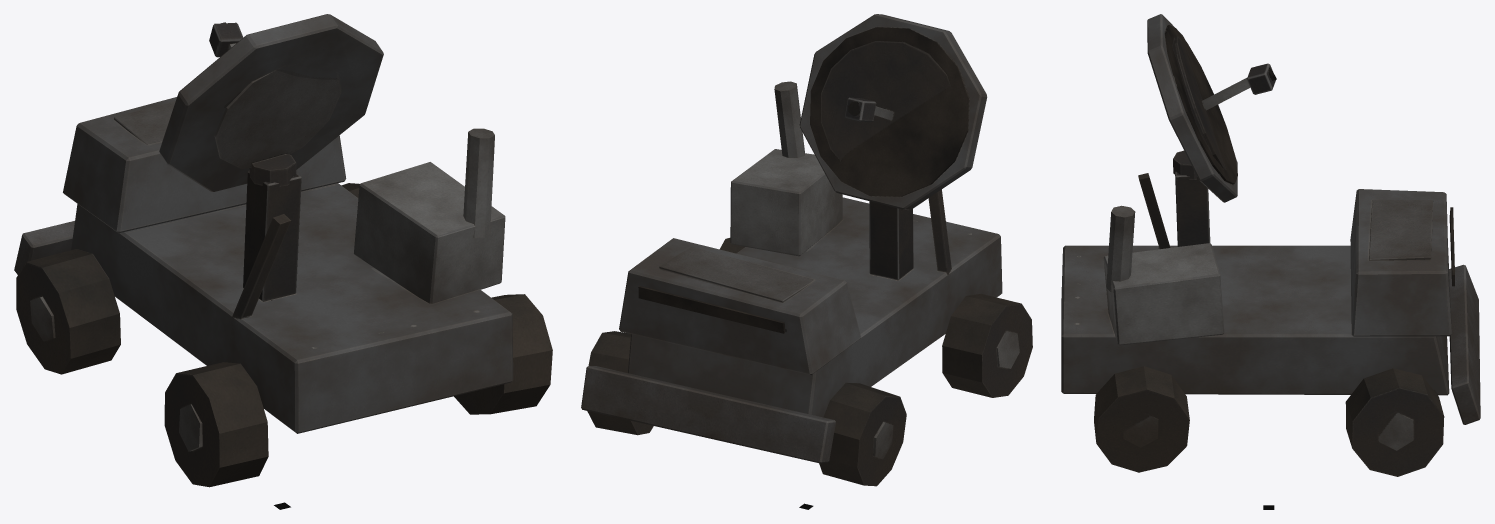
Rendered from chs_watcher_wreck.fbx.
3 views of the same model, side by side, from view 1: azimuth 30°, elevation 25°; view 2: azimuth 150°, elevation 25°; view 3: azimuth 270°, elevation 25° (orthographic). The views are drawn at different scales.
Visible parts, largest first — view 1: base_bar, dish_bar, wheelL2_bar, wheelL1_bar, wheelR2_bar; view 2: base_bar, dish_bar, wheelL2_bar, wheelL1_bar, wheelR1_bar; view 3: base_bar, dish_bar, wheelR1_bar, wheelR2_bar.
Part boxes in pixels (x1,y1,x2,y2): base_bar: (14,97,513,433); dish_bar: (159,14,383,191); wheelL2_bar: (164,362,268,487); wheelL1_bar: (16,249,120,374); wheelR2_bar: (454,294,552,414); base_bar: (581,81,1002,463); dish_bar: (799,14,987,210); wheelL2_bar: (942,293,1032,397); wheelL1_bar: (819,382,906,486); wheelR1_bar: (587,331,653,435); base_bar: (1061,171,1480,424); dish_bar: (1147,14,1276,202); wheelR1_bar: (1345,368,1444,476); wheelR2_bar: (1094,366,1189,472).
Size of the model in its own units: 598 by 917 by 768.
2 materials, 2 textured.
